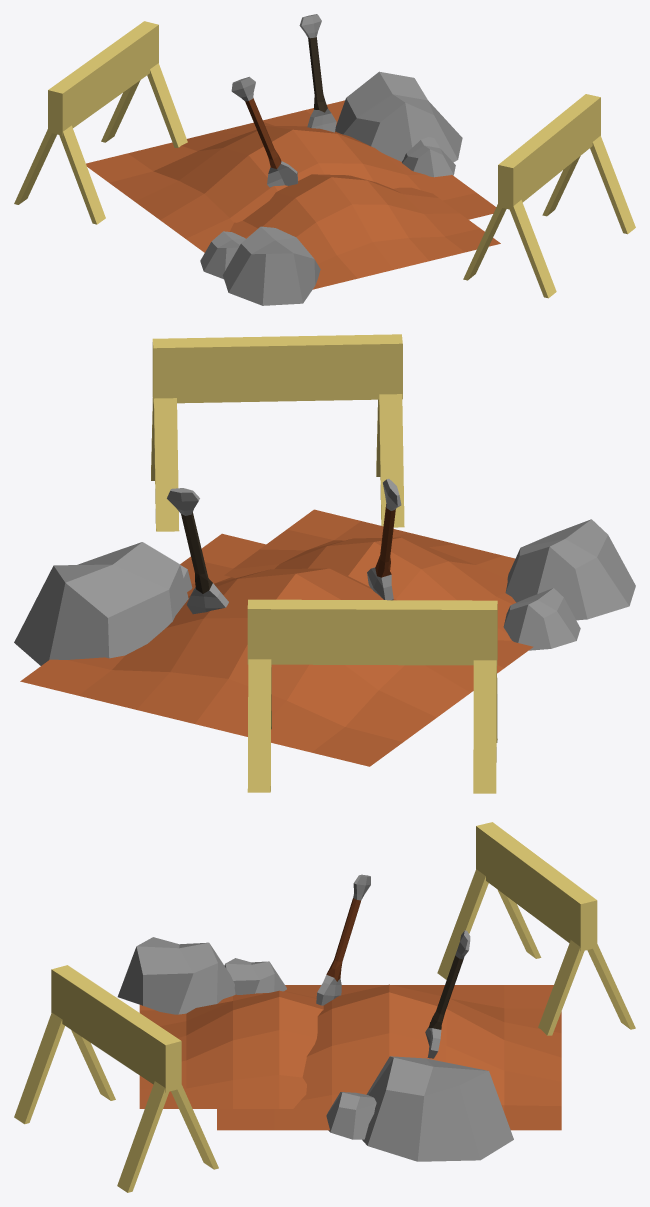
The model's file is construção.fbx.
The picture shows the model from 3 angles, top to bottom: view 1: azimuth 30°, elevation 25°; view 2: azimuth 150°, elevation 25°; view 3: azimuth 270°, elevation 25°; orthographic projection. The views are drawn at different scales.
Parts seen in each view (by area): view 1: construção; view 2: construção; view 3: construção.
Part boxes in pixels (x1=…): construção: x1=14, y1=14, x2=635, y2=305; construção: x1=14, y1=334, x2=635, y2=793; construção: x1=14, y1=822, x2=635, y2=1192.
Size of the model in its own units: 157 by 49.23 by 171.
